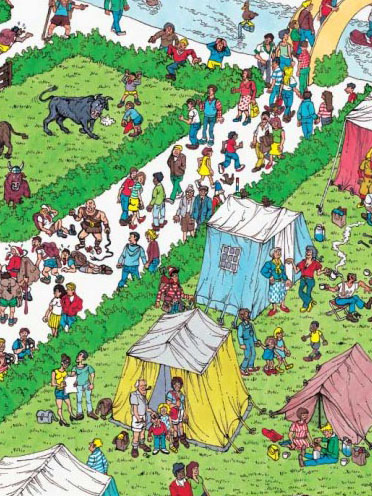waldo: (167, 265, 181, 284)
